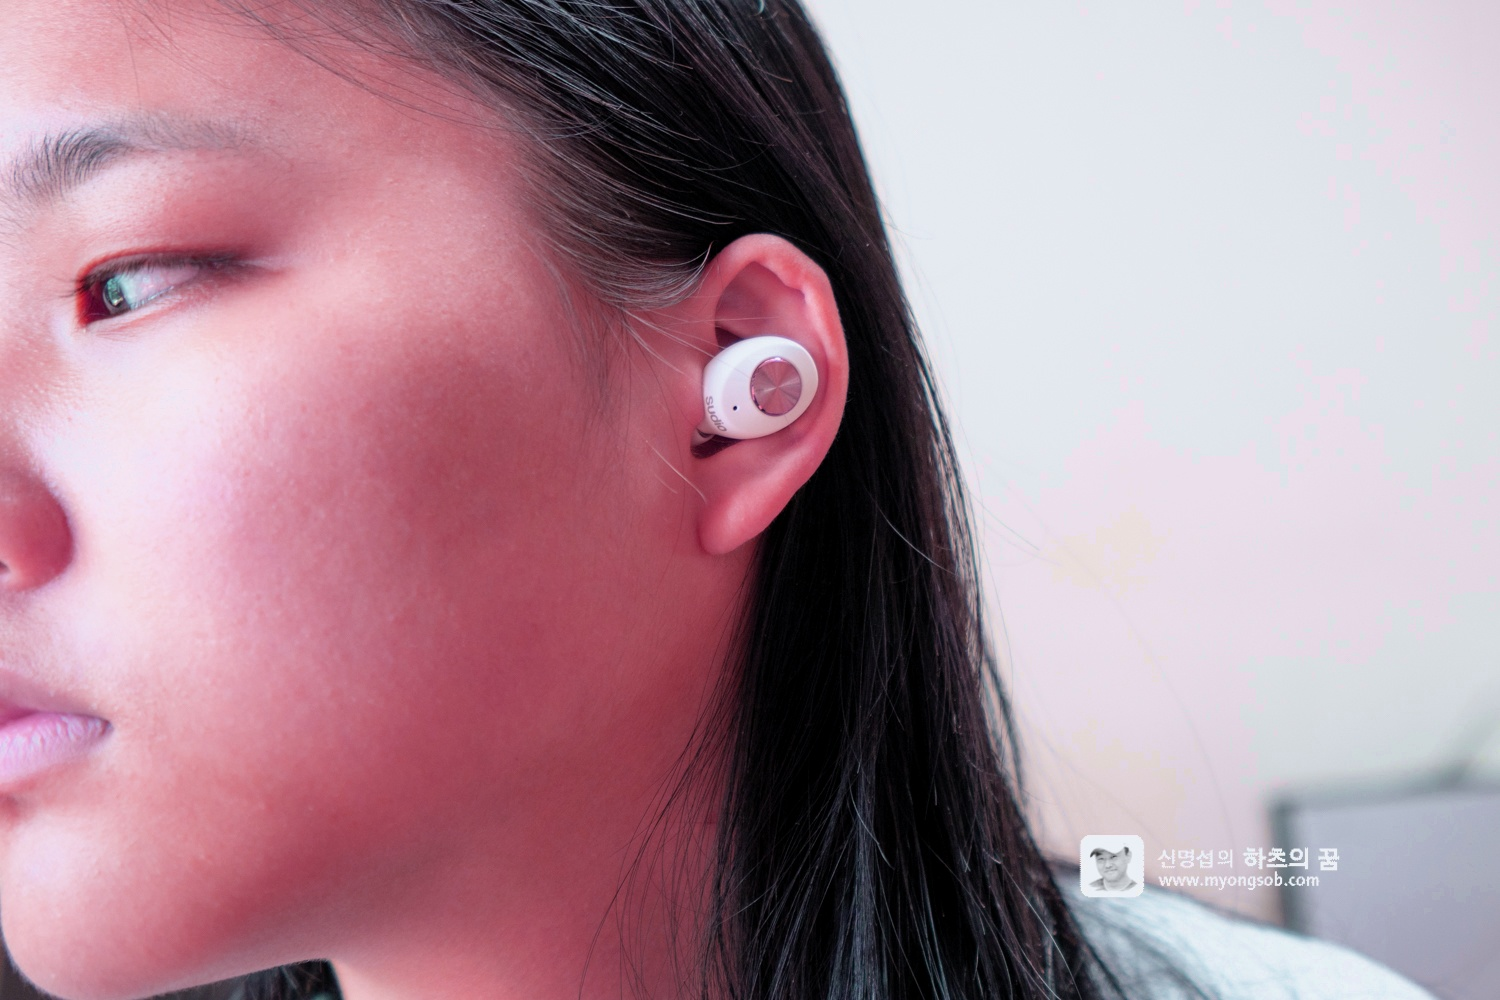earphone: (670, 234, 849, 558)
